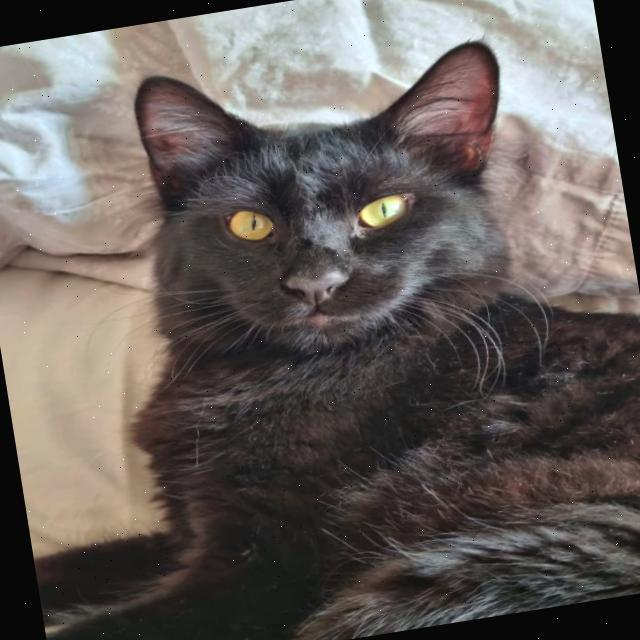maine_coon_cat: (54, 13, 576, 449)
